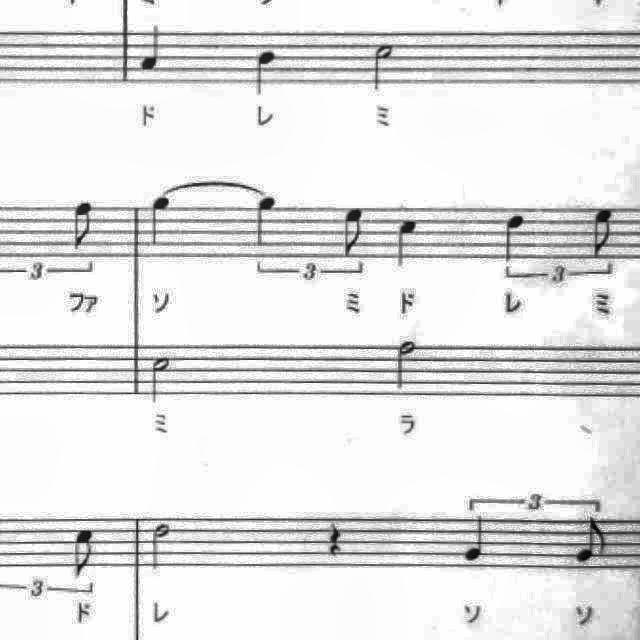Eighth-note: (63, 194, 101, 256), (570, 512, 612, 568), (68, 522, 104, 586), (337, 198, 373, 258), (581, 202, 619, 258)
Half-note: (368, 38, 404, 98), (392, 334, 424, 396), (144, 351, 178, 409), (144, 516, 176, 574)
Quarter-note: (250, 189, 286, 251), (388, 213, 424, 274), (498, 210, 534, 270), (144, 192, 180, 252), (247, 43, 283, 101), (134, 21, 170, 79), (459, 511, 496, 567)
Quarter-rest: (322, 515, 352, 565)
